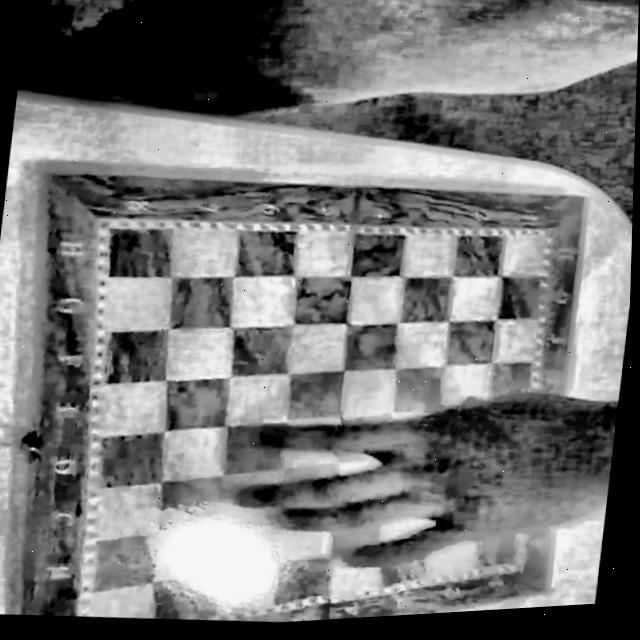chessboard: (22, 177, 582, 622)
